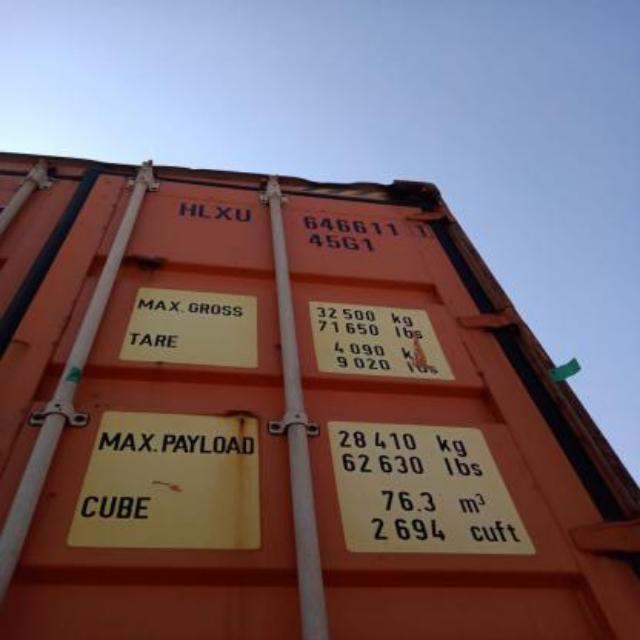1: (407, 216, 431, 238), (368, 216, 384, 238), (386, 220, 400, 238)
4: (316, 210, 332, 233)
6: (297, 205, 315, 231), (351, 212, 369, 238), (333, 213, 351, 234)
H: (177, 196, 197, 220)
L: (196, 199, 212, 225)
U: (234, 203, 252, 227)
X: (209, 198, 233, 226)
